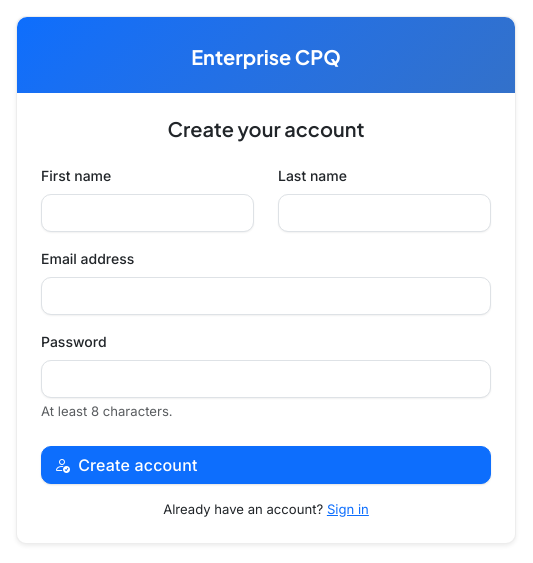
Scenario: Register page › shows loading state and disables the button while submitting
Type "Jane" into the field labelled "First name". click: (148, 213)
box: [41,194,254,232]
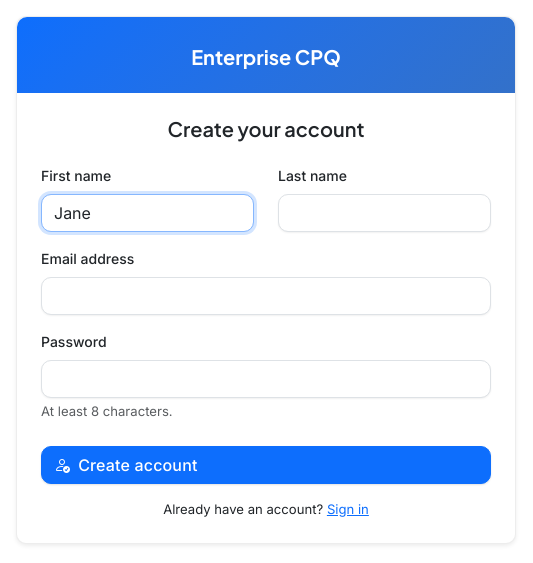
Type "Doe" into the field labelled "Last name". click: (384, 213)
box: [278,194,491,232]
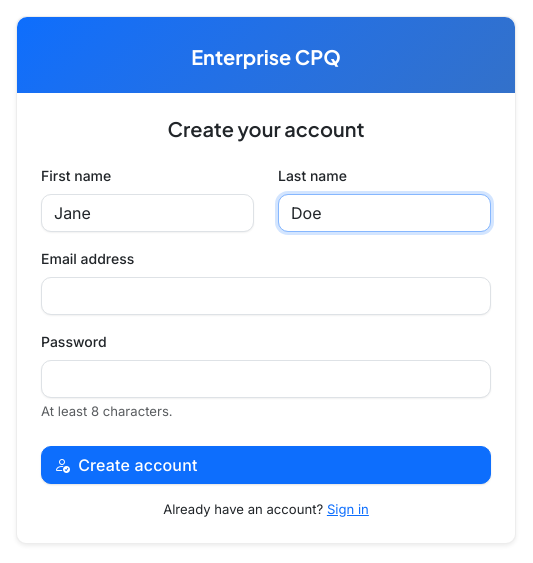
Type "new@example.com" into the field labelled "Email address". click: (266, 296)
box: [41,277,491,315]
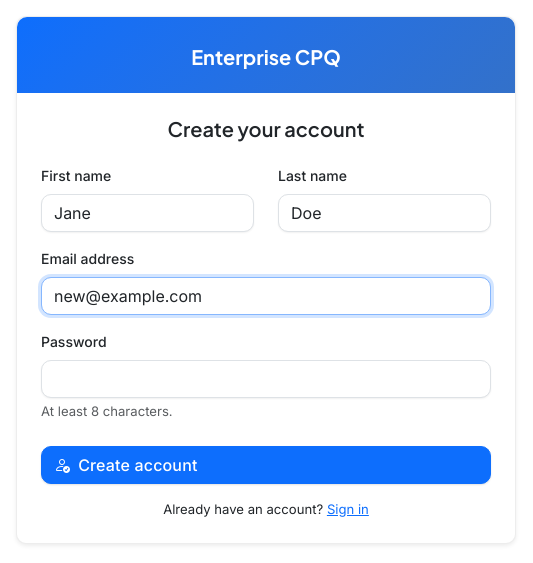
Type "password123" into the password field labelled "Password". click: (266, 379)
box: [41,360,491,398]
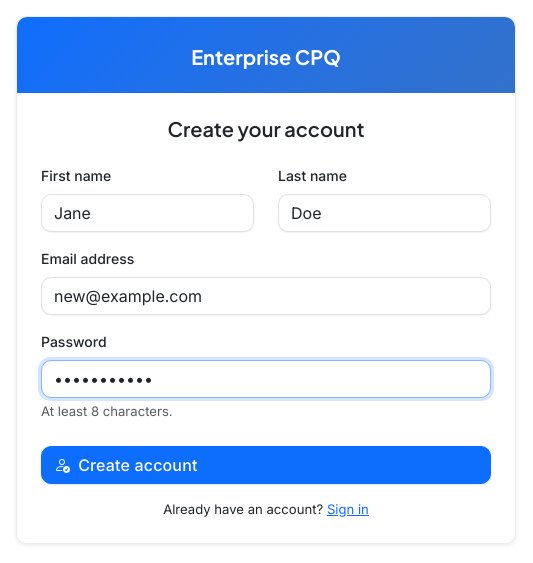
Click the button "Create account". click: click(138, 464)
box: [41,446,491,484]
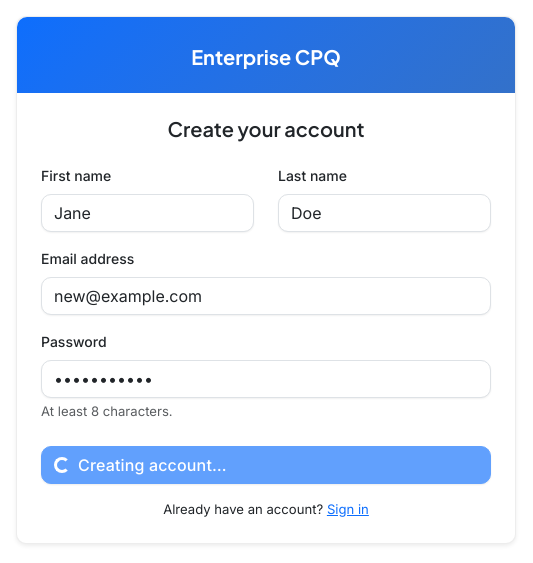
Check: the button "Creating account…" is disabled, box [41,446,491,484]
